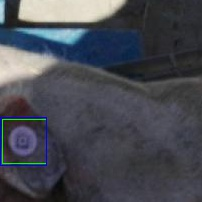text: (2, 119, 46, 163)
